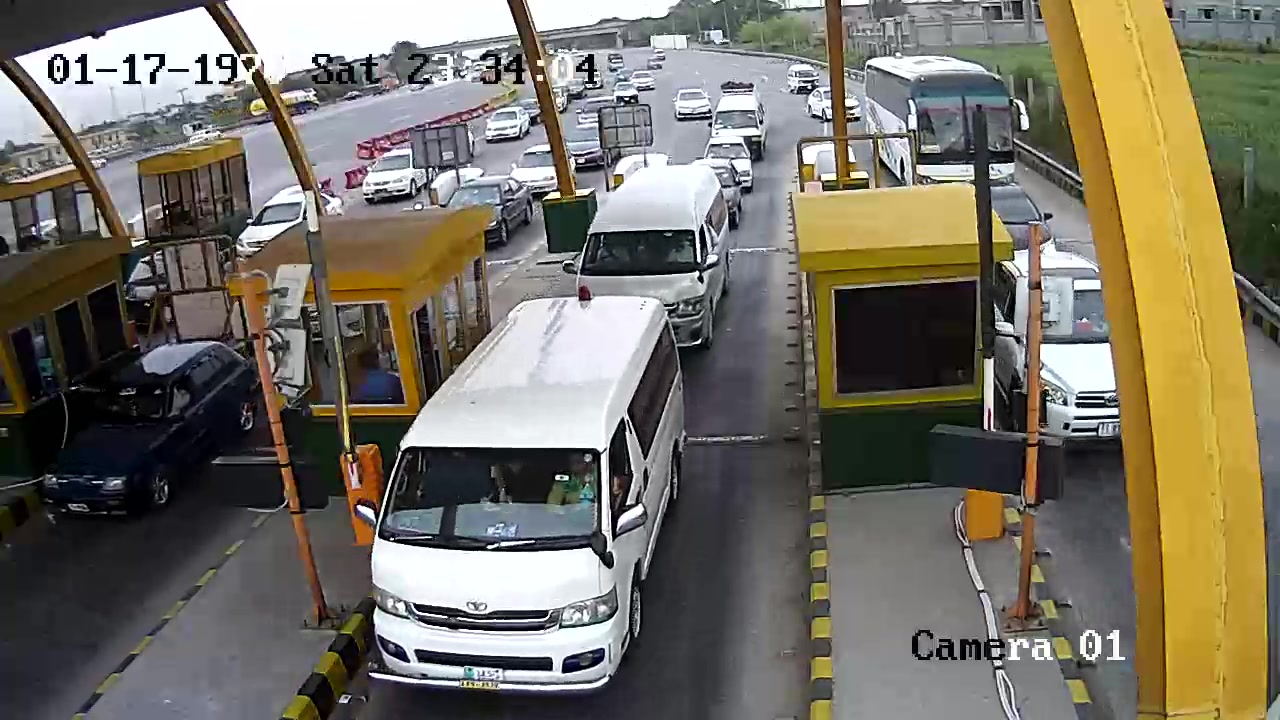F3: (360, 280, 727, 686)
